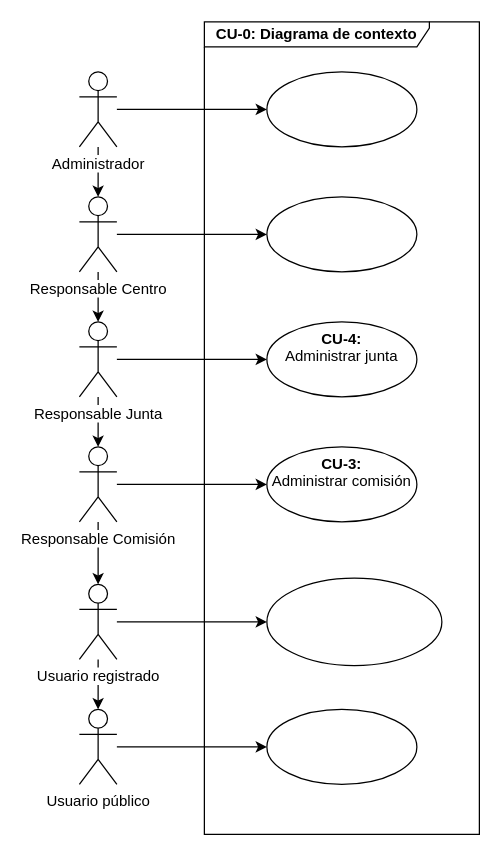
This 501x856 diagram has some shape labels left out. The box of each missing label's shape, as (x1, y1, x2, y2) in pixels:
CU-1: Consultar información pública: (266, 708, 417, 784)
CU-2: Administrar información de usuario: (266, 577, 442, 666)
CU-5: Administrar centro: (266, 196, 417, 272)
CU-6: Administrar sistema: (266, 71, 417, 147)
